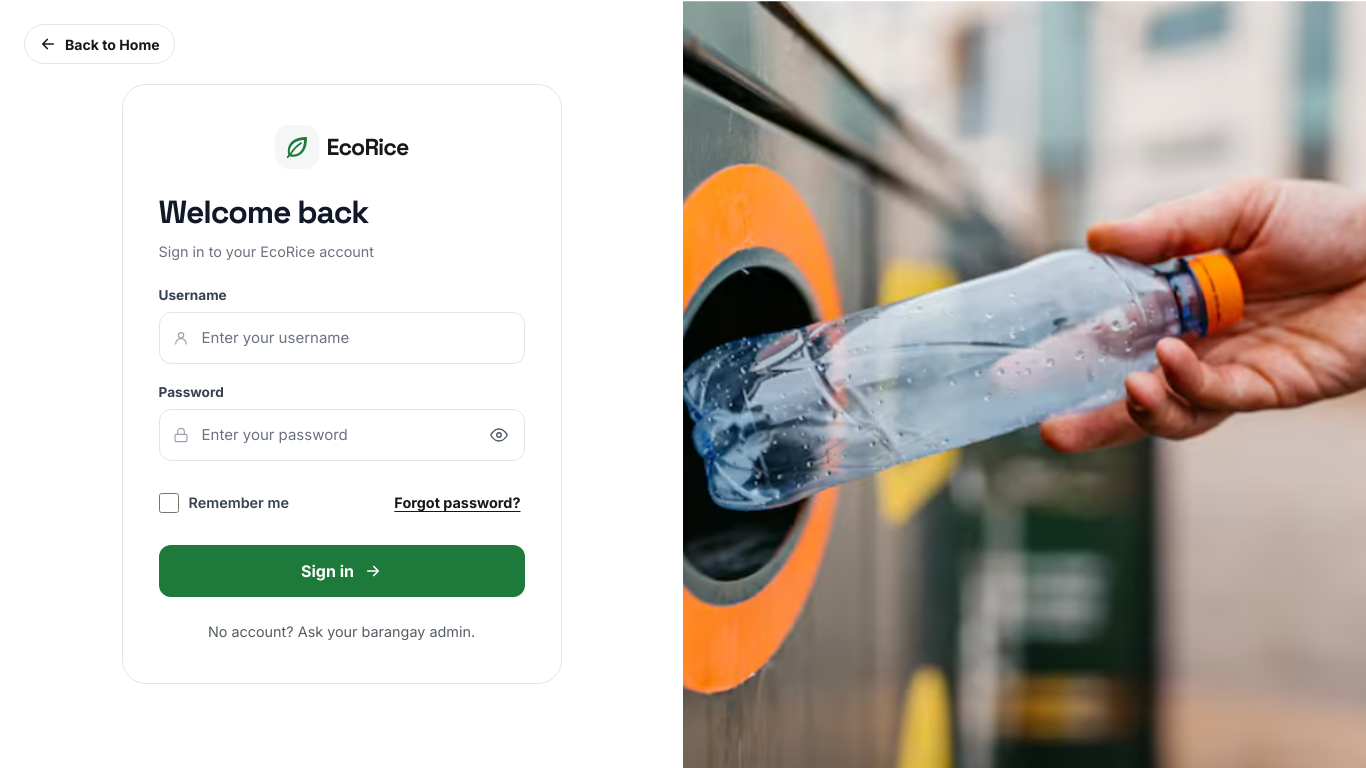
Test: announces Something went wrong. Please try again.
Type "juan" into the field labelled "Username".
click(342, 338); type("juan")  # box left=158, top=312, right=524, bottom=364
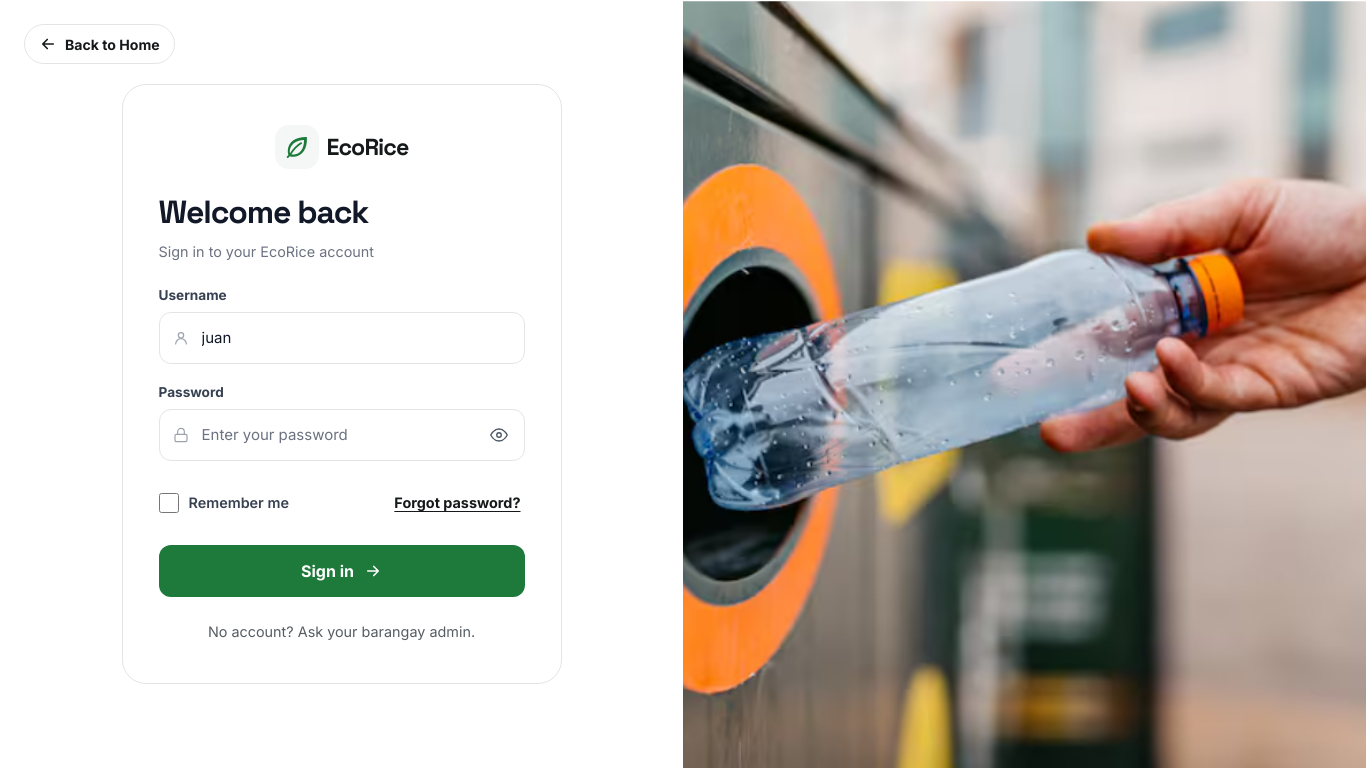
Type "test-only-pass" into the password field labelled "Password".
click(342, 435); type("test-only-pass")  # box left=158, top=409, right=524, bottom=461
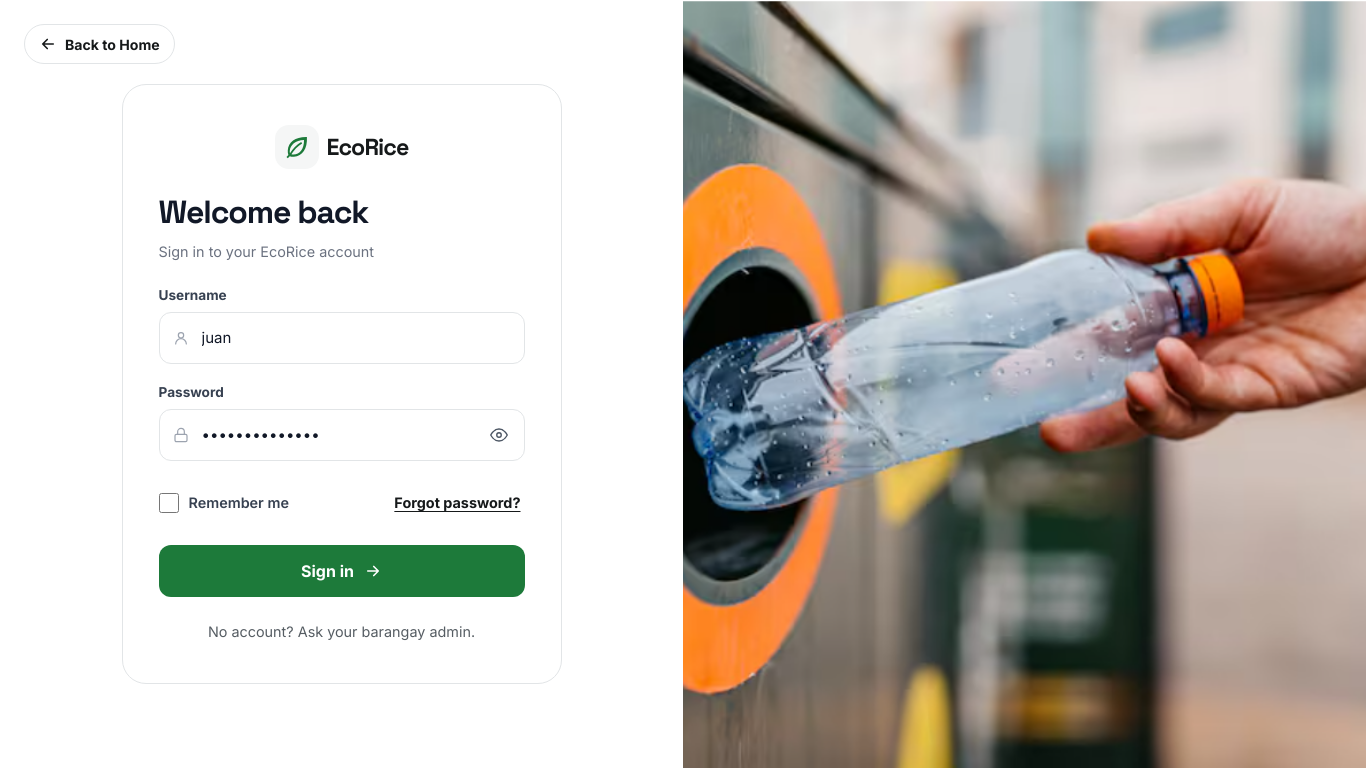
Click the button "Sign in".
click(342, 571)  # box left=158, top=545, right=524, bottom=597
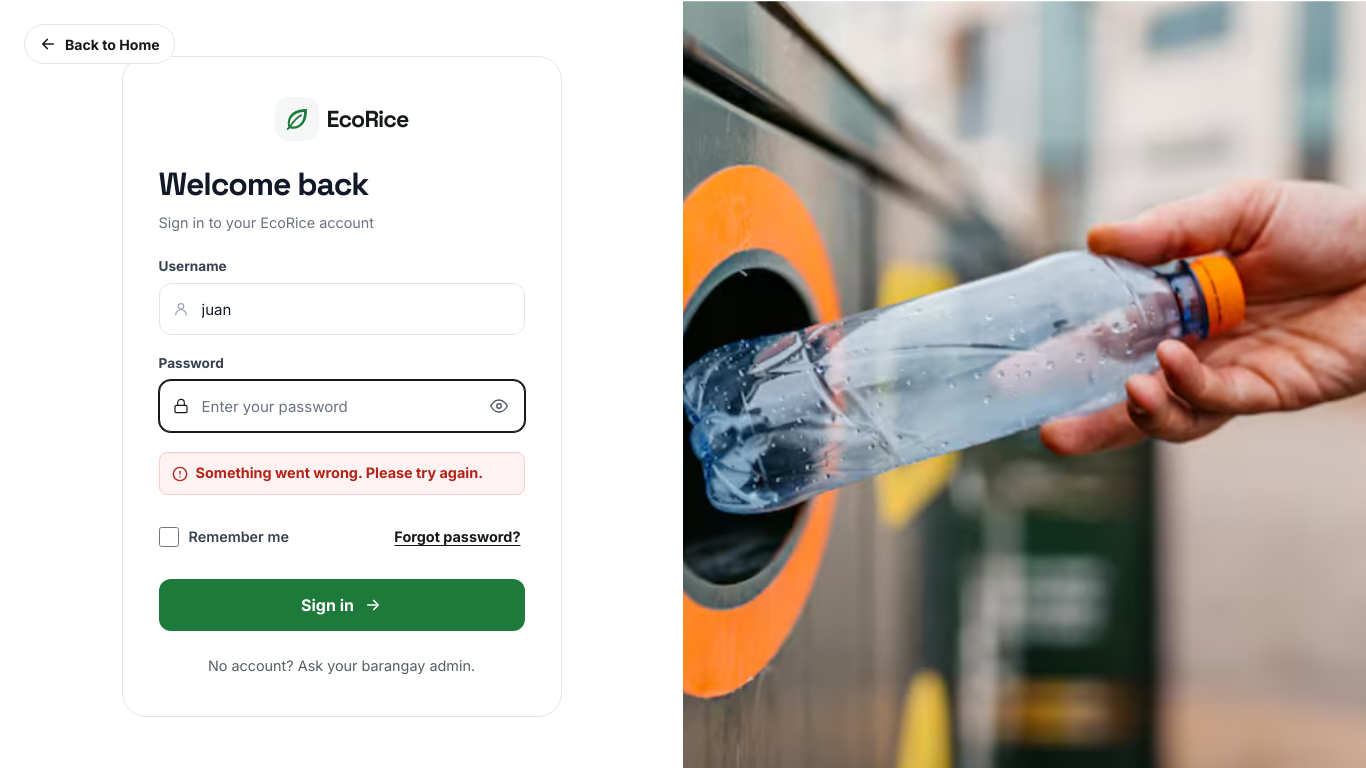
Check: the message reads "Something went wrong. Please try again.", box left=196, top=464, right=483, bottom=481
